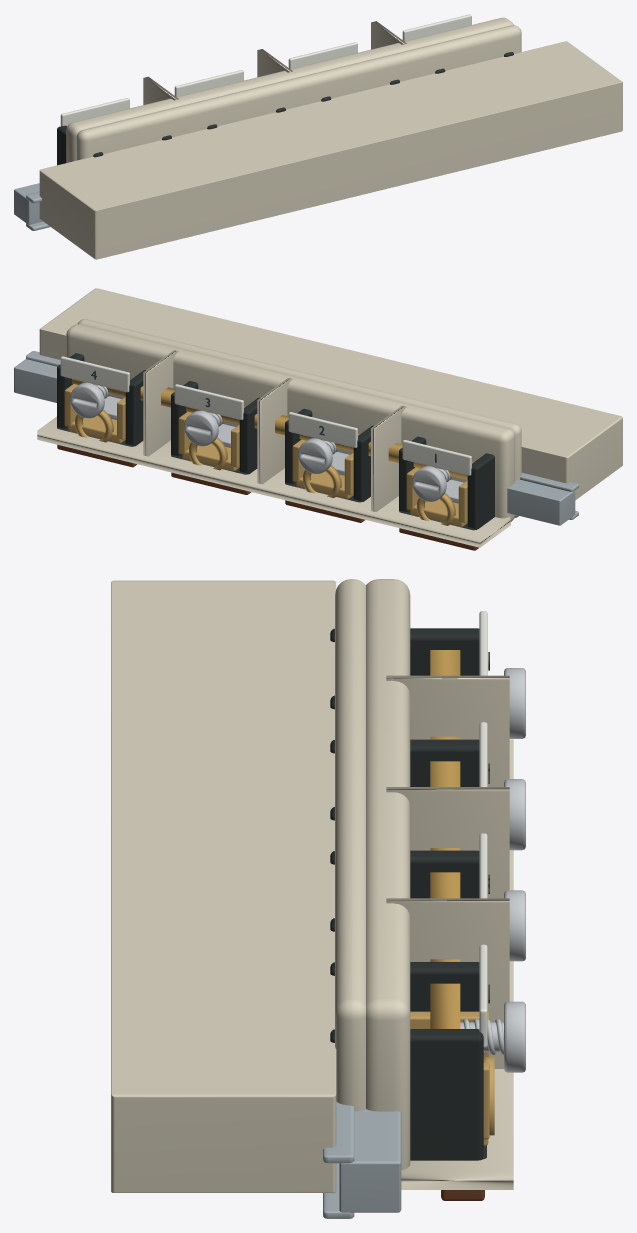
File: terminal_default.glb
The picture shows the model from 3 angles, top to bottom: view 1: azimuth 30°, elevation 25°; view 2: azimuth 150°, elevation 25°; view 3: azimuth 270°, elevation 25°; orthographic projection. The views are drawn at different scales.
Parts seen in each view (by area): view 1: part:body, part:terminals · Original 5a609f27, part:mounting · Original 2a8198d3, Moulded terminal legend pad, Moulded terminal legend pad.003, Moulded terminal legend pad.001, Moulded terminal legend pad.002, detail:terminal-clamp:1 · Detail moulded engineering polymer; view 2: part:terminals · Original 5a609f27, part:body, part:mounting · Original 2a8198d3, detail:terminal-clamp:1 · Detail moulded engineering polymer, detail:terminal-clamp:3 · Detail moulded engineering polymer, detail:terminal-clamp:4 · Detail moulded engineering polymer, detail:terminal-clamp:2 · Detail moulded engineering polymer, detail:terminal-clamp:2 · Detail machined brass, detail:terminal-clamp:1 · Detail machined brass, detail:terminal-clamp:4 · Detail machined brass, detail:terminal-clamp:3 · Detail machined brass, Moulded terminal legend pad (+12 smaller); view 3: part:body, part:terminals · Original 5a609f27, detail:terminal-clamp:4 · Detail moulded engineering polymer, part:mounting · Original 2a8198d3, part:terminals.001, detail:terminal-clamp:3 · Detail moulded engineering polymer, detail:terminal-clamp:2 · Detail moulded engineering polymer, detail:terminal-clamp:1 · Detail moulded engineering polymer, detail:terminal-clamp:4 · Detail zinc plated fixing, detail:terminal-clamp:4 · Detail machined brass, detail:terminal-clamp:3 · Detail zinc plated fixing, detail:terminal-clamp:2 · Detail zinc plated fixing (+2 smaller).
Boxes of the visible parts, <box> form: part:body: <box>39,41,622,259</box>; part:terminals · Original 5a609f27: <box>66,17,521,162</box>; part:mounting · Original 2a8198d3: <box>14,183,50,230</box>; Moulded terminal legend pad: <box>60,98,129,126</box>; Moulded terminal legend pad.003: <box>402,14,471,41</box>; Moulded terminal legend pad.001: <box>174,70,243,96</box>; Moulded terminal legend pad.002: <box>288,42,357,69</box>; detail:terminal-clamp:1 · Detail moulded engineering polymer: <box>57,125,171,165</box>; part:terminals · Original 5a609f27: <box>37,319,521,547</box>; part:body: <box>39,288,622,500</box>; part:mounting · Original 2a8198d3: <box>14,351,578,525</box>; detail:terminal-clamp:1 · Detail moulded engineering polymer: <box>399,436,494,530</box>; detail:terminal-clamp:3 · Detail moulded engineering polymer: <box>171,381,259,474</box>; detail:terminal-clamp:4 · Detail moulded engineering polymer: <box>57,353,145,446</box>; detail:terminal-clamp:2 · Detail moulded engineering polymer: <box>285,408,373,502</box>; detail:terminal-clamp:2 · Detail machined brass: <box>292,439,353,499</box>; detail:terminal-clamp:1 · Detail machined brass: <box>406,467,467,526</box>; detail:terminal-clamp:4 · Detail machined brass: <box>64,384,125,443</box>; detail:terminal-clamp:3 · Detail machined brass: <box>178,411,239,471</box>; Moulded terminal legend pad: <box>402,440,471,475</box>; part:body: <box>111,580,336,1192</box>; part:terminals · Original 5a609f27: <box>335,579,513,1189</box>; detail:terminal-clamp:4 · Detail moulded engineering polymer: <box>330,962,486,1160</box>; part:mounting · Original 2a8198d3: <box>323,1101,401,1218</box>; part:terminals.001: <box>430,650,460,1028</box>; detail:terminal-clamp:3 · Detail moulded engineering polymer: <box>330,850,479,931</box>; detail:terminal-clamp:2 · Detail moulded engineering polymer: <box>330,739,479,820</box>; detail:terminal-clamp:1 · Detail moulded engineering polymer: <box>330,628,479,709</box>; detail:terminal-clamp:4 · Detail zinc plated fixing: <box>460,1001,525,1072</box>; detail:terminal-clamp:4 · Detail machined brass: <box>410,1011,494,1146</box>; detail:terminal-clamp:3 · Detail zinc plated fixing: <box>504,890,525,961</box>; detail:terminal-clamp:2 · Detail zinc plated fixing: <box>504,779,525,850</box>.
Bounding box in the file's own units: 0.9231 × 0.168 × 0.3032.
